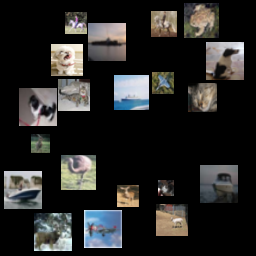airplane: (84, 210, 122, 248), (152, 72, 174, 94)
bird: (61, 155, 96, 190)
cat: (58, 79, 90, 111), (188, 83, 217, 112), (158, 180, 174, 196)
deer: (34, 213, 72, 251), (156, 204, 188, 236), (117, 185, 139, 207), (31, 134, 50, 153)
dog: (19, 88, 57, 126), (206, 42, 244, 80), (51, 44, 83, 76)
frog: (184, 3, 219, 38)
ship: (88, 23, 126, 61), (200, 165, 238, 203), (4, 171, 42, 209), (114, 75, 149, 110)
